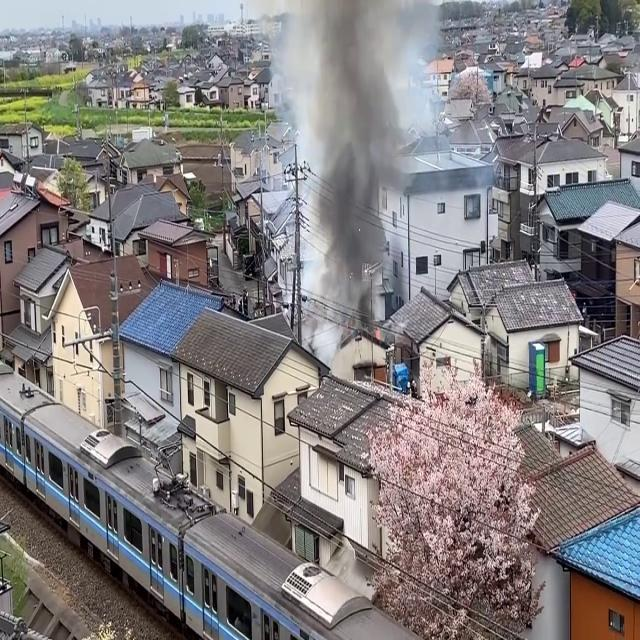Smoke: (299, 0, 413, 325)
